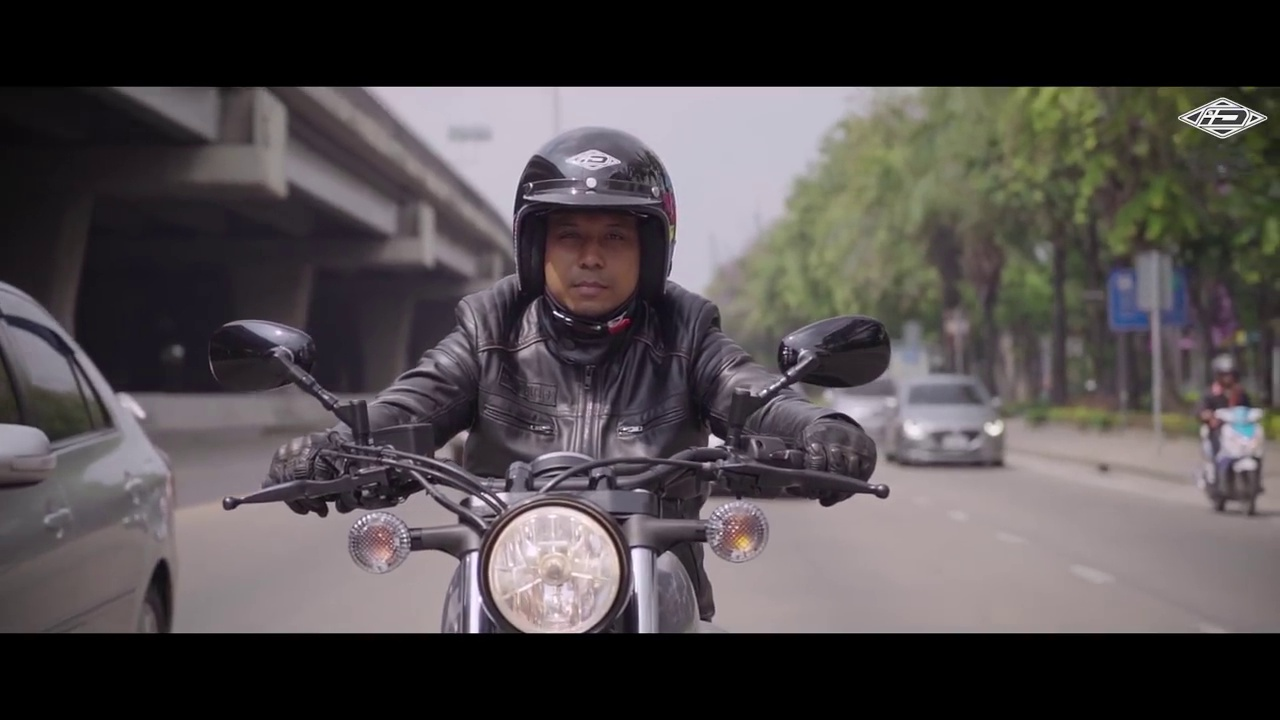helmet: (491, 114, 691, 342), (1214, 340, 1243, 390)
